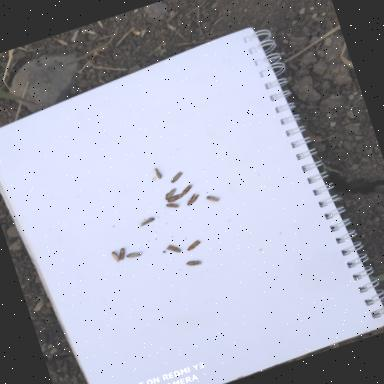pbw: (174, 178, 198, 198), (164, 238, 182, 256), (184, 190, 202, 206), (168, 168, 186, 184), (204, 191, 222, 207), (183, 238, 203, 252), (162, 186, 180, 201), (162, 191, 184, 203), (136, 214, 156, 227), (185, 256, 204, 269), (162, 199, 180, 212), (125, 248, 142, 260), (108, 248, 120, 264), (152, 165, 164, 180), (116, 246, 128, 261)
